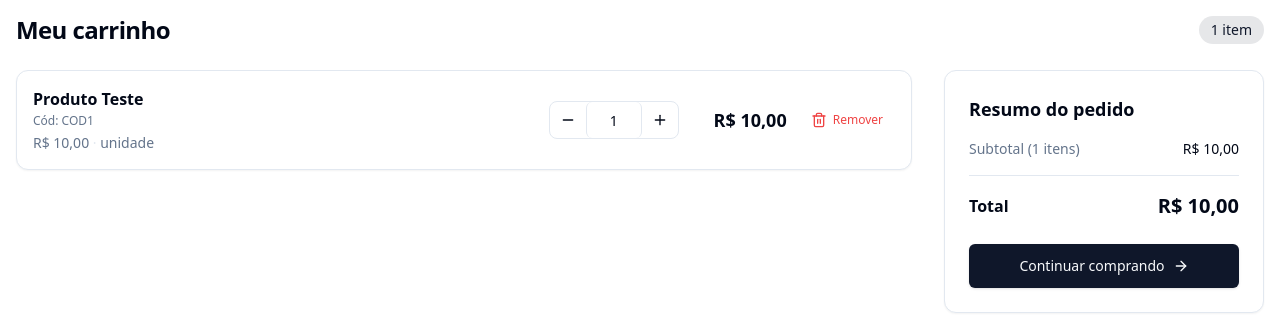
Test: CartPage › increases quantity with plus button
Click the button named "aumentar quantidade" at x=660, y=120, box x1=642 y1=102 x2=678 y2=138
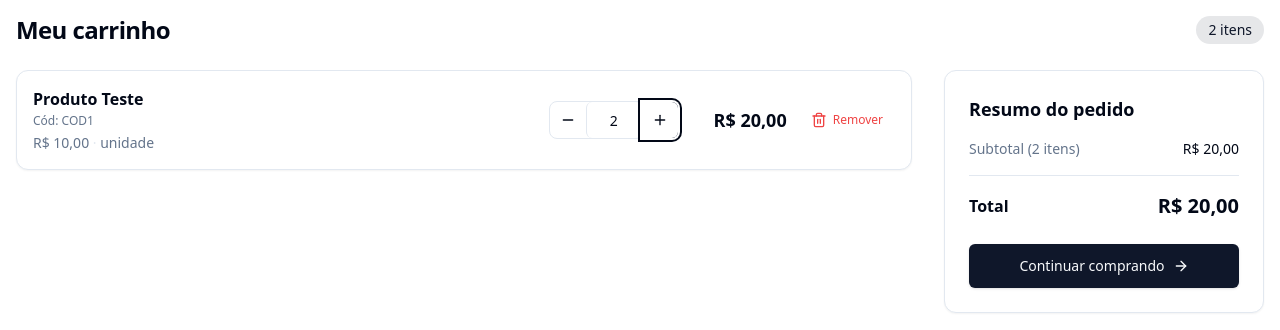
Result: the number field with test id "cart-item-quantity" holds "2" at x1=586 y1=102 x2=642 y2=138
